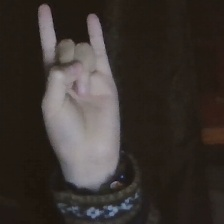U: (29, 1, 129, 160)
